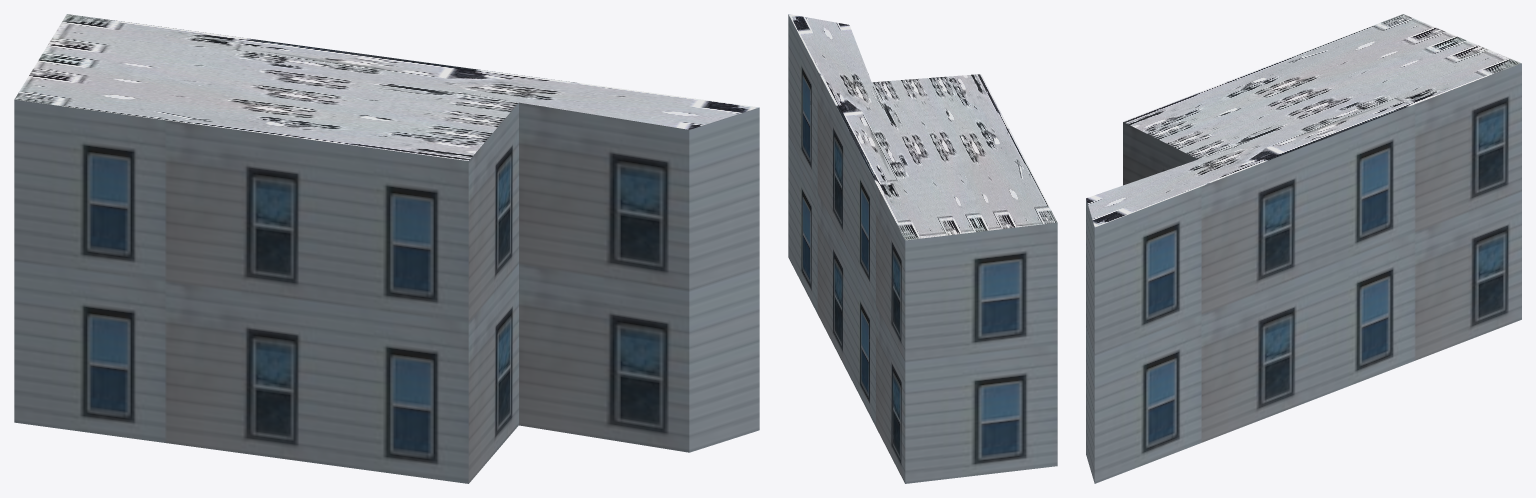
The model's file is ResTex__3110.fbx.
3 renders of one model, left to right at view 1: azimuth 30°, elevation 25°; view 2: azimuth 150°, elevation 25°; view 3: azimuth 270°, elevation 25°, orthographic. The views are drawn at different scales.
Parts seen in each view (by area): view 1: CityEngineMaterial_18_m, CityEngineMaterial_4_m; view 2: CityEngineMaterial_18_m, CityEngineMaterial_4_m; view 3: CityEngineMaterial_18_m, CityEngineMaterial_4_m.
Part boxes in pixels (x1,y1,x2,y2): CityEngineMaterial_18_m: (14, 100, 759, 483); CityEngineMaterial_4_m: (14, 14, 759, 160); CityEngineMaterial_18_m: (788, 14, 1057, 483); CityEngineMaterial_4_m: (788, 14, 1057, 240); CityEngineMaterial_18_m: (1086, 63, 1521, 483); CityEngineMaterial_4_m: (1086, 14, 1521, 227).
Size of the model in its own units: 10.72 by 6 by 9.24.
Materials: 2 (2 with a texture image).
